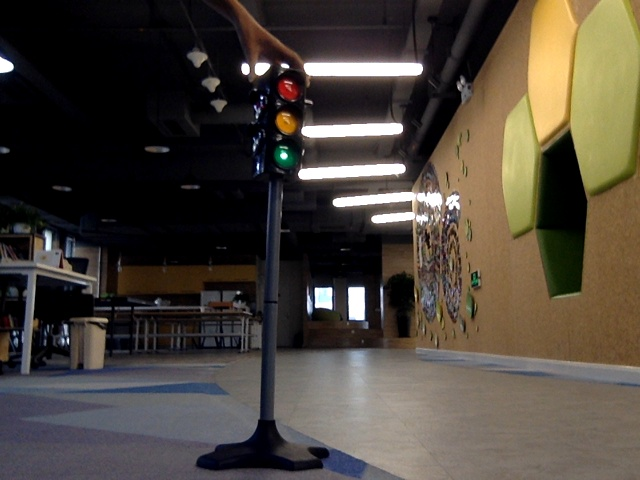green: (273, 75, 298, 173)
